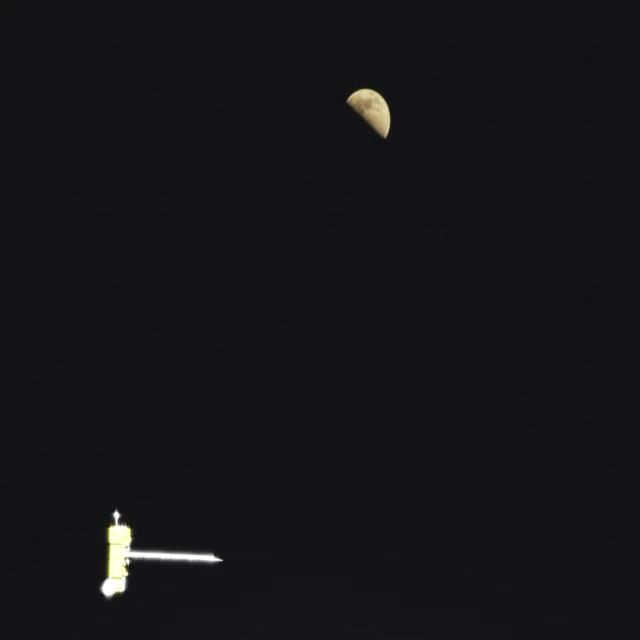medium_debris: (90, 507, 233, 609)
